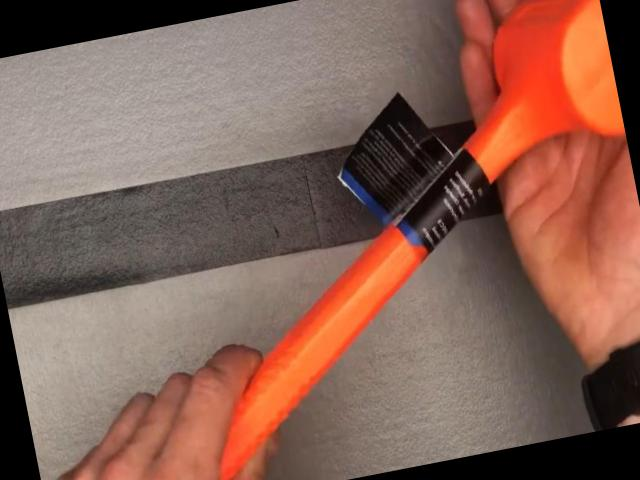hammer: (28, 0, 640, 480)
